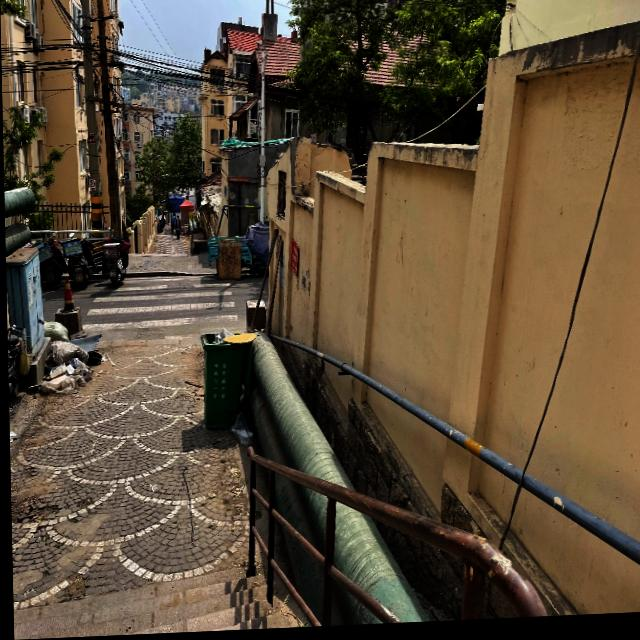garbage: (225, 411, 253, 449)
overflow: (199, 328, 257, 430)
